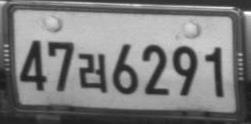1: (203, 46, 230, 97)
2: (141, 44, 169, 95)
4: (19, 40, 47, 91)
6: (111, 43, 138, 95)
7: (47, 40, 74, 91)
9: (171, 45, 198, 96)
러: (76, 53, 108, 93)
